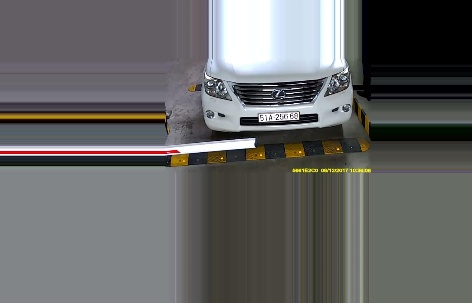plate: (256, 107, 302, 124)
